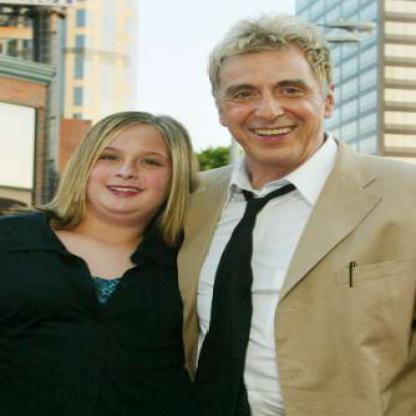face: (221, 27, 327, 165), (82, 112, 183, 215)
